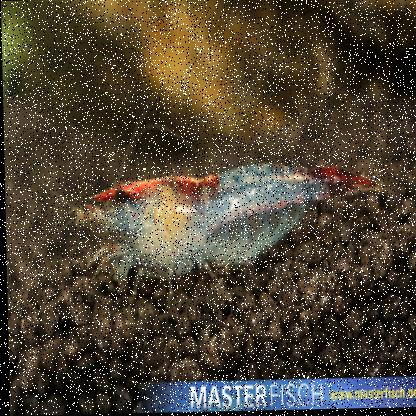shrimp: (68, 159, 387, 299)
